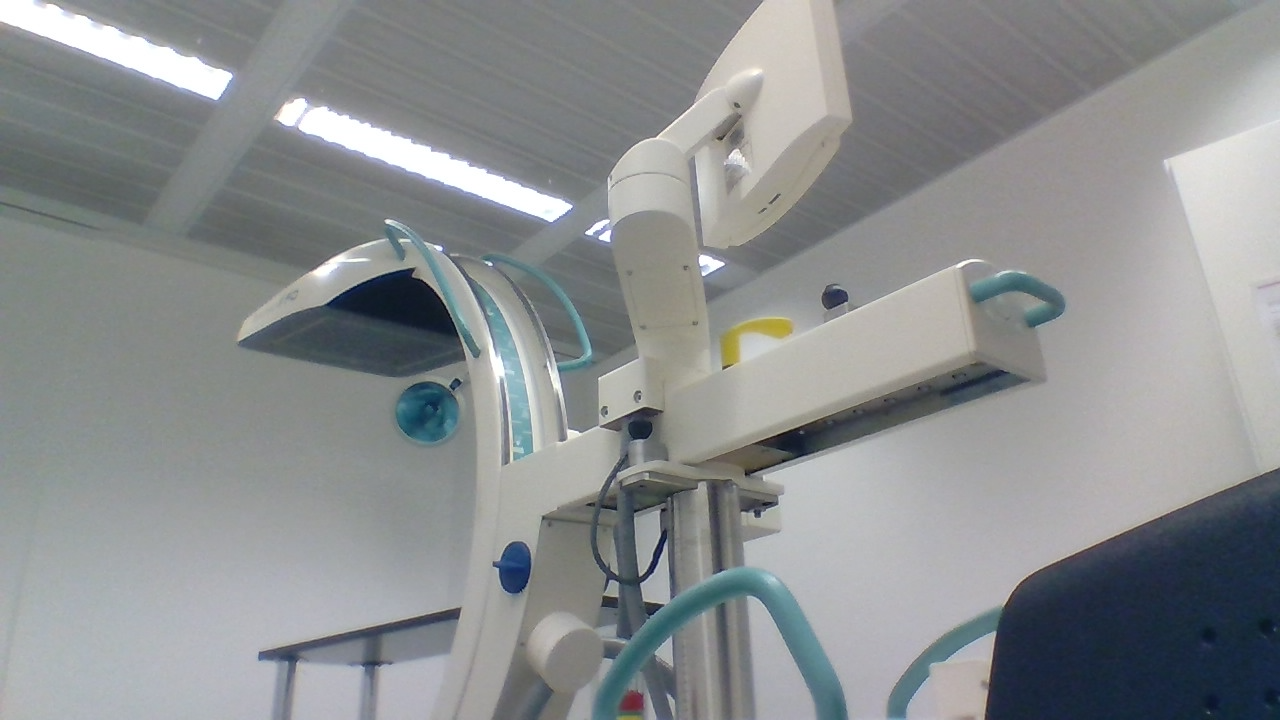carmLOCK: (490, 540, 533, 594)
carmSCREEN: (693, 0, 851, 251)
carmUP: (235, 234, 505, 379)
